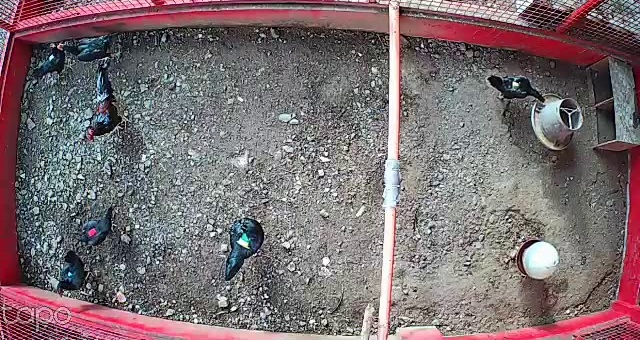Chicken: (219, 209, 266, 279), (484, 71, 551, 109), (72, 202, 125, 248), (55, 34, 123, 68), (56, 246, 98, 297), (29, 39, 78, 80)
Rooster: (81, 64, 134, 141)
Saddle_Color_Blue: (67, 271, 74, 278)
Saddle_Color_Red: (86, 228, 96, 237)
Saddle_Color_White: (48, 56, 54, 61)
Saddle_Color_Yellow: (512, 80, 522, 91)
Saddle_Color_YellowGreen: (235, 232, 251, 246)
